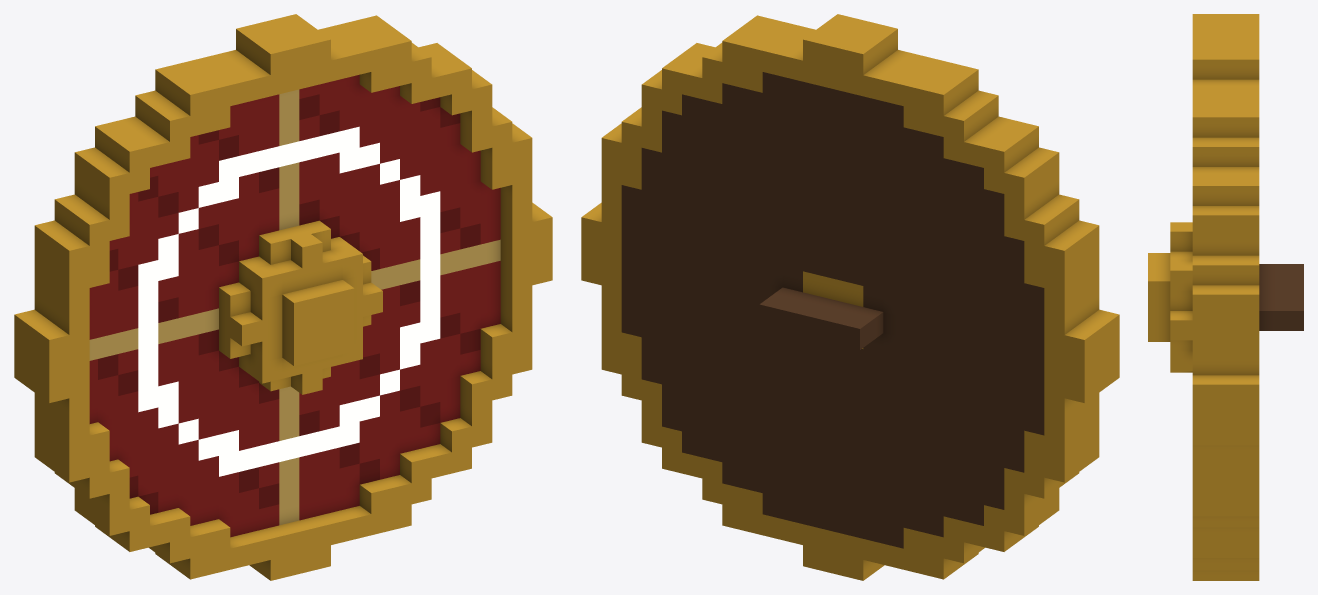
The model's file is gladius_shield_legendary.glb.
The picture shows the model from 3 angles, left to right: view 1: azimuth 30°, elevation 25°; view 2: azimuth 150°, elevation 25°; view 3: azimuth 270°, elevation 25°; orthographic projection. The views are drawn at different scales.
Visible parts, largest first — view 1: gladius_shield_legendary_body; view 2: gladius_shield_legendary_body; view 3: gladius_shield_legendary_body.
Boxes of the visible parts, x1,y1,x2,y2 form: gladius_shield_legendary_body: (14, 14, 552, 580); gladius_shield_legendary_body: (581, 14, 1119, 580); gladius_shield_legendary_body: (1148, 14, 1303, 580).
Size of the model in its own units: 0.9766 by 0.9766 by 0.2734.
Materials: 1 (1 with a texture image).
